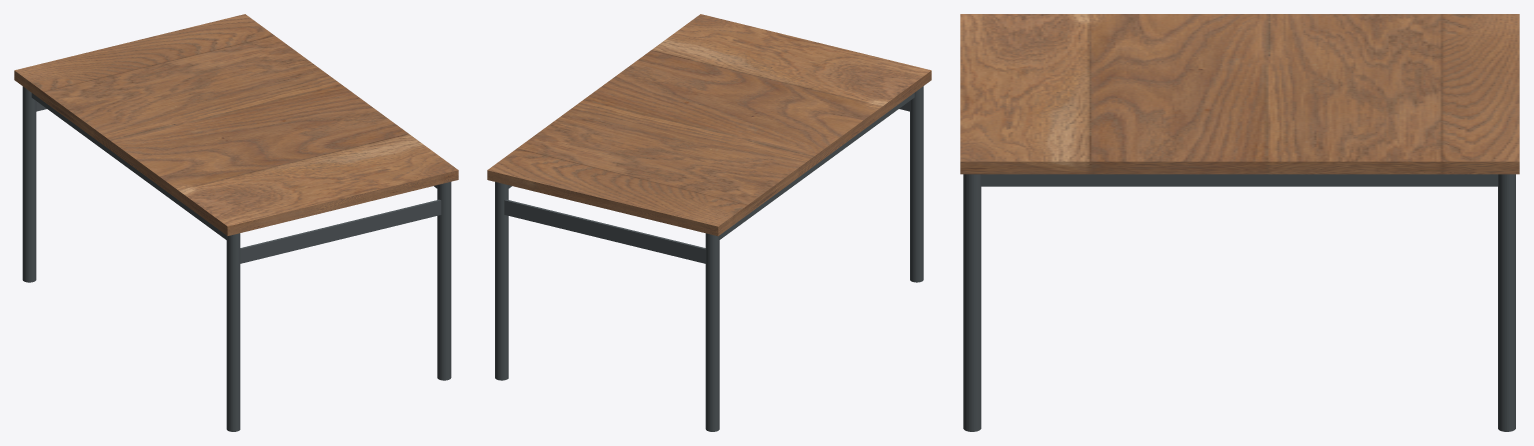
File: Table.fbx
3 renders of one model, left to right at view 1: azimuth 30°, elevation 25°; view 2: azimuth 150°, elevation 25°; view 3: azimuth 270°, elevation 25°, orthographic. The views are drawn at different scales.
Visible parts, largest first — view 1: Cube, Cube.003, Cylinder.002, Cylinder.003, Cylinder.001, Cube.001; view 2: Cube, Cube.004, Cylinder.001, Cylinder, Cylinder.002, Cube.001; view 3: Cube, Cube.002, Cylinder.003, Cylinder.
Boxes of the visible parts, x1,y1,x2,y2 form: Cube: (14,14,458,235); Cube.003: (240,199,441,263); Cylinder.002: (226,233,240,431); Cylinder.003: (437,182,451,380); Cylinder.001: (22,86,36,282); Cube.001: (31,93,226,239); Cube: (487,14,931,236); Cube.004: (504,199,705,263); Cylinder.001: (705,233,719,431); Cylinder: (495,182,508,380); Cylinder.002: (910,86,923,282); Cube.001: (719,93,914,239); Cube: (960,14,1519,174); Cube.002: (981,174,1497,186); Cylinder.003: (963,174,981,431); Cylinder: (1498,174,1515,431).
Size of the model in its own units: 125 by 108 by 200.
